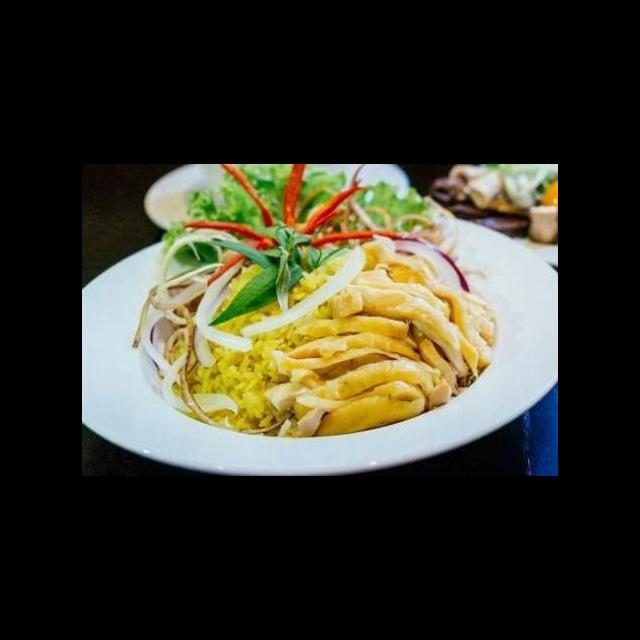com: (162, 329, 298, 440), (216, 261, 332, 347)
com ga: (84, 190, 558, 476)
rau ram: (200, 220, 357, 331)
thit ga: (296, 239, 503, 402), (263, 330, 454, 441)
